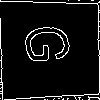G: (25, 24, 80, 63)
